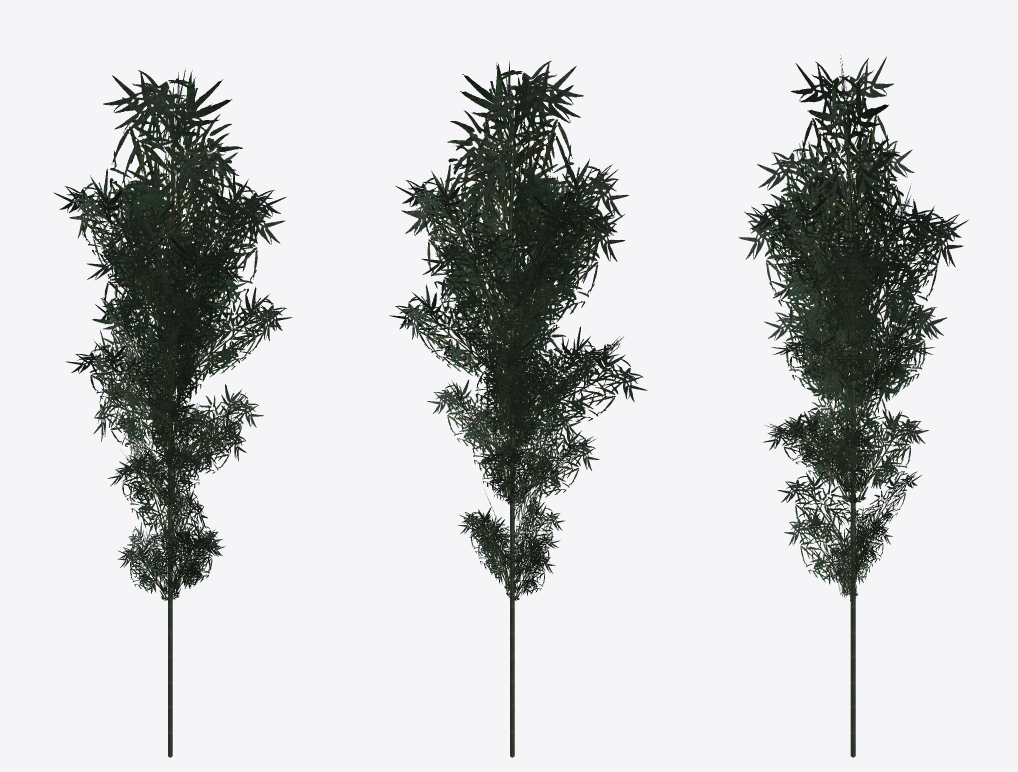
The model's file is bamboo_tree_tall1.fbx.
The picture shows the model from 3 angles, left to right: view 1: azimuth 30°, elevation 25°; view 2: azimuth 150°, elevation 25°; view 3: azimuth 270°, elevation 25°; orthographic projection.
Parts seen in each view (by area): view 1: mesh_63, mesh_64, mesh_39, mesh_38, mesh_44, mesh_45, mesh_43, mesh_35, mesh_23, mesh_48, mesh_27, mesh_28 (+37 smaller); view 2: mesh_65, mesh_64, mesh_33, mesh_48, mesh_63, mesh_42, mesh_23, mesh_45, mesh_39, mesh_32, mesh_41, mesh_36 (+34 smaller); view 3: mesh_65, mesh_63, mesh_42, mesh_43, mesh_33, mesh_38, mesh_35, mesh_46, mesh_56, mesh_0, mesh_36, mesh_34 (+36 smaller).
Boxes of the visible parts, bbox=[...] form: mesh_63: bbox=[103, 70, 243, 275]; mesh_64: bbox=[114, 70, 231, 281]; mesh_39: bbox=[86, 236, 190, 342]; mesh_38: bbox=[149, 236, 245, 342]; mesh_44: bbox=[172, 186, 286, 310]; mesh_45: bbox=[101, 200, 195, 310]; mesh_43: bbox=[172, 173, 265, 310]; mesh_35: bbox=[173, 188, 285, 337]; mesh_23: bbox=[93, 369, 167, 446]; mesh_48: bbox=[69, 168, 168, 311]; mesh_27: bbox=[176, 286, 281, 386]; mesh_28: bbox=[181, 294, 292, 380]; mesh_65: bbox=[445, 61, 583, 305]; mesh_64: bbox=[448, 62, 580, 305]; mesh_33: bbox=[421, 234, 529, 344]; mesh_48: bbox=[501, 195, 614, 309]; mesh_63: bbox=[489, 61, 538, 305]; mesh_42: bbox=[406, 163, 509, 306]; mesh_23: bbox=[512, 344, 647, 425]; mesh_45: bbox=[517, 156, 628, 302]; mesh_39: bbox=[513, 199, 624, 346]; mesh_32: bbox=[481, 270, 564, 379]; mesh_41: bbox=[395, 178, 510, 307]; mesh_36: bbox=[401, 182, 515, 340]; mesh_65: bbox=[791, 61, 903, 302]; mesh_63: bbox=[801, 56, 893, 301]; mesh_42: bbox=[839, 198, 949, 308]; mesh_43: bbox=[747, 196, 860, 309]; mesh_33: bbox=[854, 199, 963, 348]; mesh_38: bbox=[738, 195, 851, 346]; mesh_35: bbox=[809, 234, 886, 347]; mesh_46: bbox=[757, 141, 866, 301]; mesh_56: bbox=[777, 471, 851, 558]; mesh_0: bbox=[850, 259, 855, 757]; mesh_36: bbox=[817, 232, 879, 347]; mesh_34: bbox=[854, 214, 968, 347].
Bounding box in the file's own units: 1121 × 2769 × 1096.
1 material, 1 textured.
